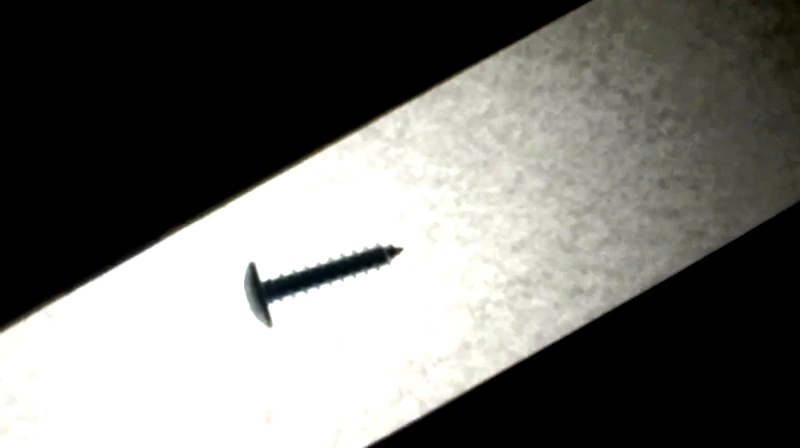S003: (239, 240, 409, 331)
